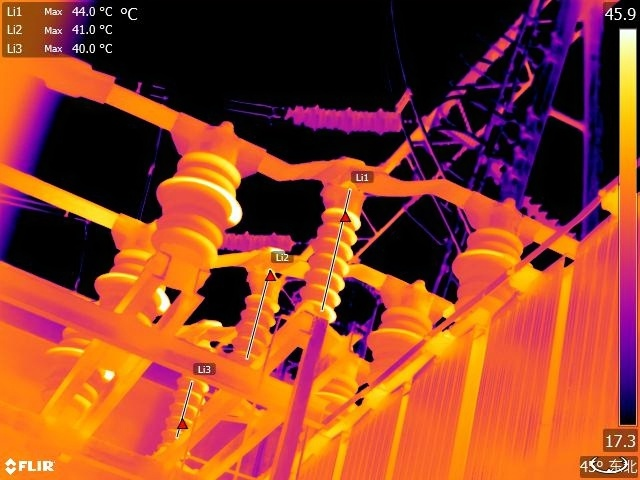insulator: (278, 95, 408, 141), (513, 189, 578, 245), (217, 229, 297, 257)
post insulator: (151, 148, 261, 298), (70, 241, 168, 357), (282, 202, 361, 325), (350, 280, 449, 376), (437, 231, 531, 317), (33, 324, 117, 419), (214, 284, 280, 374), (148, 367, 204, 447), (308, 371, 363, 420)
transformer: (258, 202, 640, 479)
